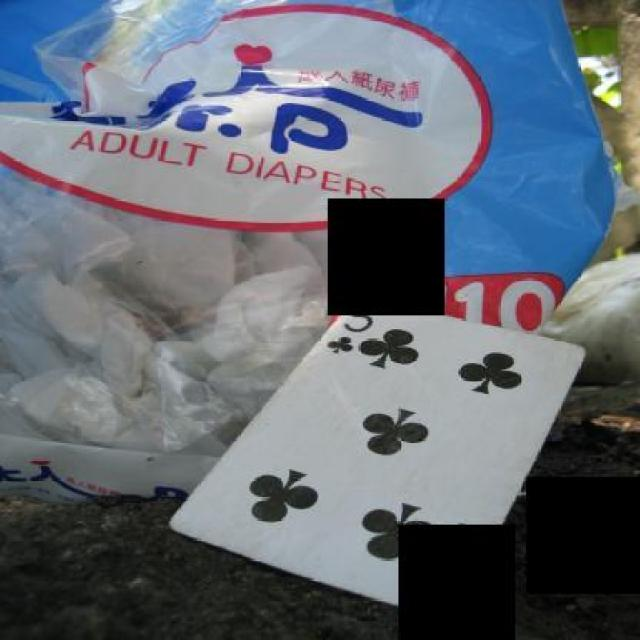plastic bag: (0, 0, 617, 502)
